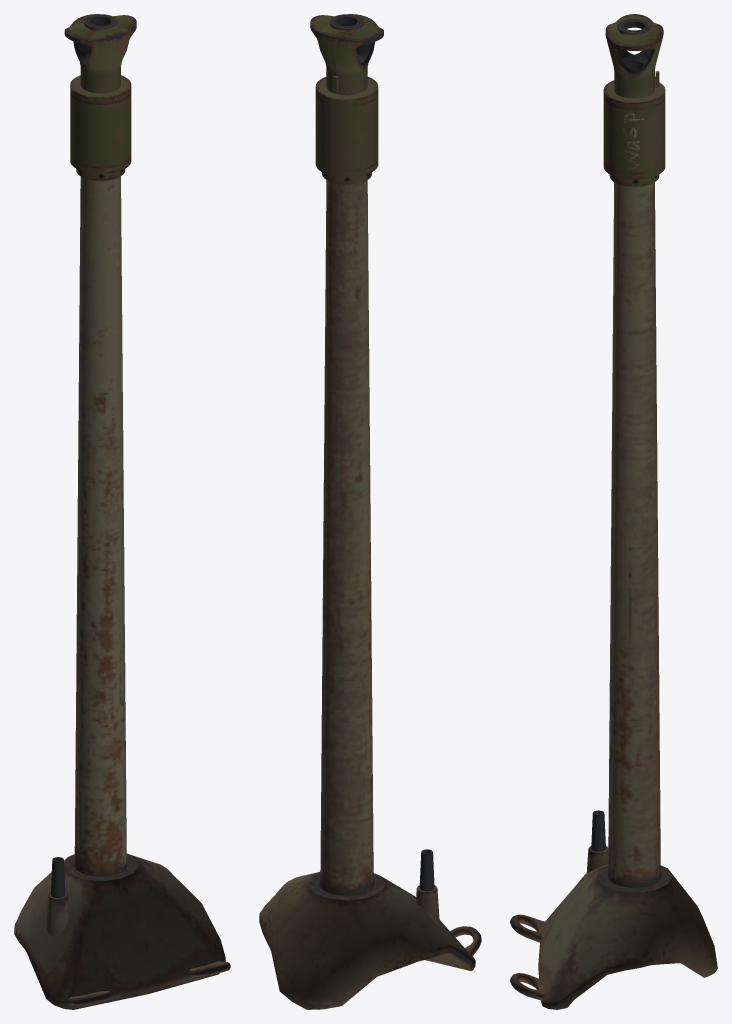
File: Gun_05.glb
3 renders of one model, left to right at view 1: azimuth 30°, elevation 25°; view 2: azimuth 150°, elevation 25°; view 3: azimuth 270°, elevation 25°, orthographic. The views are drawn at different scales.
Visible parts, largest first — view 1: set_0_group_0; view 2: set_0_group_0; view 3: set_0_group_0.
Part boxes in pixels (bbox=[...]): set_0_group_0: bbox=[14, 14, 230, 1009]; set_0_group_0: bbox=[259, 14, 481, 1009]; set_0_group_0: bbox=[510, 14, 717, 1009].
Bounding box in the file's own units: 0.7462 × 3.76 × 0.7505.
Materials: 1 (1 with a texture image).
